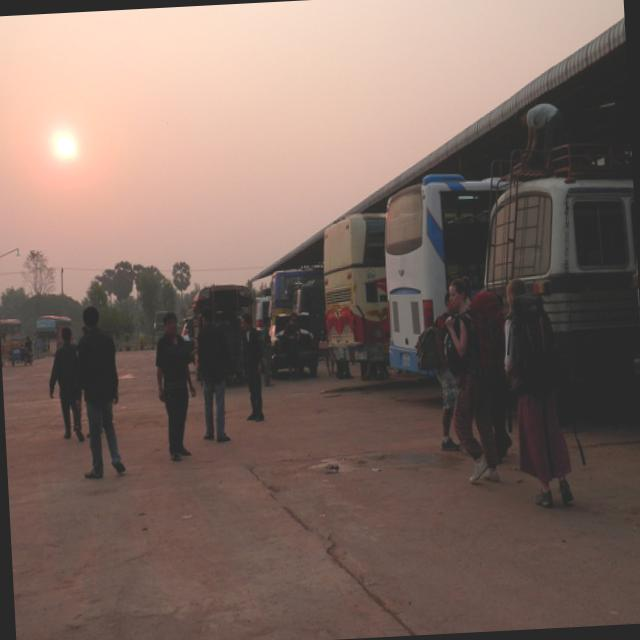Vehicle: (473, 155, 640, 376), (381, 172, 512, 376), (321, 210, 394, 368), (246, 268, 325, 376), (622, 146, 640, 376), (35, 314, 73, 354)
